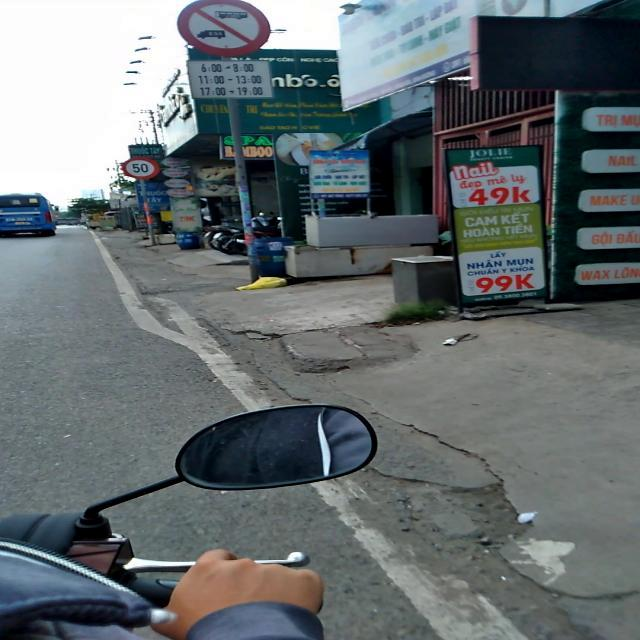Toc do toi da cho phep: (120, 157, 160, 180)
